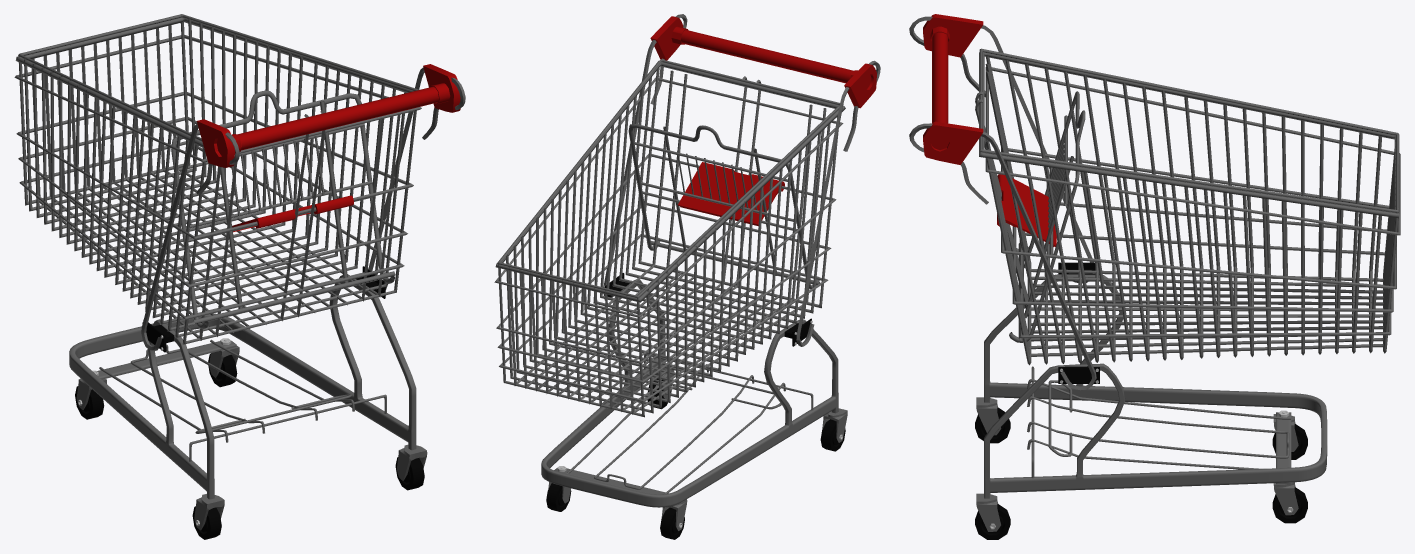
File: Caddie 1.fbx
The picture shows the model from 3 angles, left to right: view 1: azimuth 30°, elevation 25°; view 2: azimuth 150°, elevation 25°; view 3: azimuth 270°, elevation 25°; orthographic projection. The views are drawn at different scales.
Parts seen in each view (by area): view 1: polySurface25; view 2: polySurface25; view 3: polySurface25.
Boxes of the visible parts, box(x1,y1,x2,y2) form: polySurface25: box(14, 14, 465, 539); polySurface25: box(494, 14, 880, 539); polySurface25: box(909, 14, 1400, 539).
Size of the model in its own units: 15.09 by 26.54 by 28.18.
